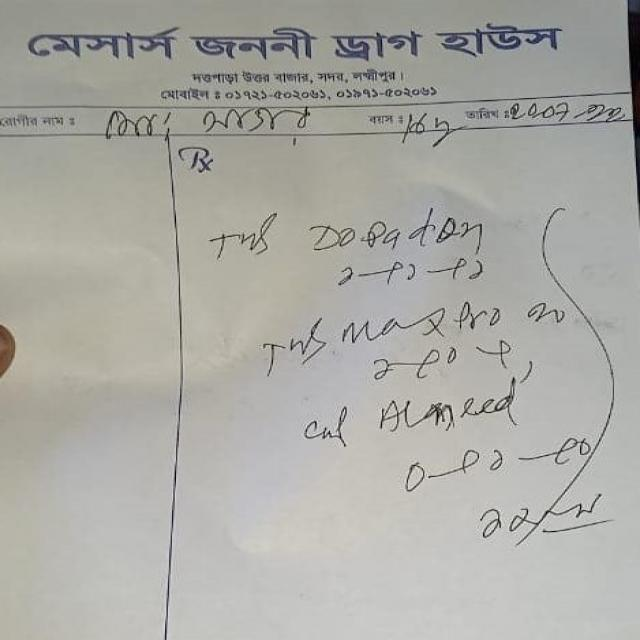Alneed: (369, 381, 531, 445)
Dopadon: (293, 215, 489, 254)
Maxpro: (332, 297, 512, 344)
